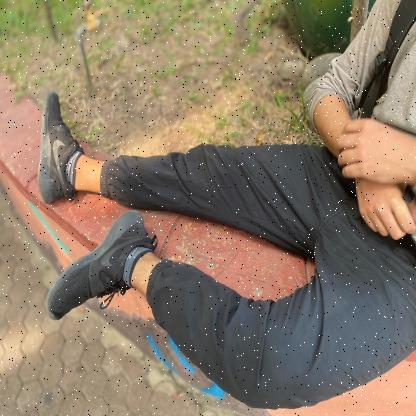hand: (320, 108, 416, 185), (347, 178, 416, 255)
leg: (17, 204, 246, 361), (27, 81, 257, 221)
